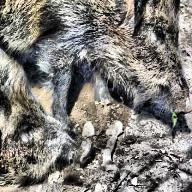boar: (2, 0, 192, 143), (7, 109, 90, 191)
